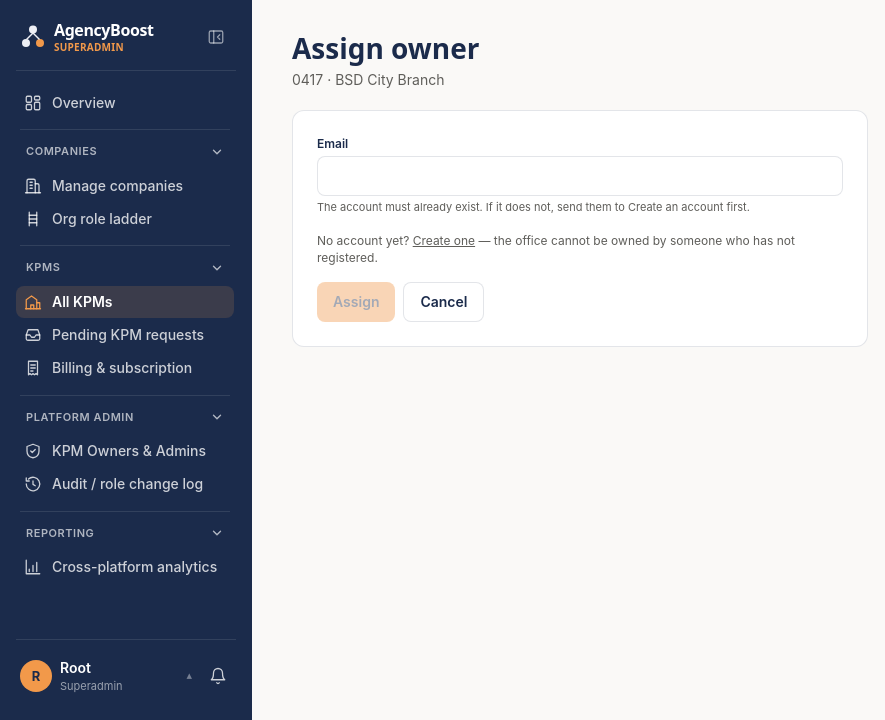
Test case: assign owner › P13.2-T4 AC-5: says an office at its leader limit cannot take a new Owner, and where to raise it
The image size is (885, 720).
Type "new@kpm0602.test" into the field labelled "Email".
click(580, 176); type("new@kpm0602.test")  # box [317,156,843,196]
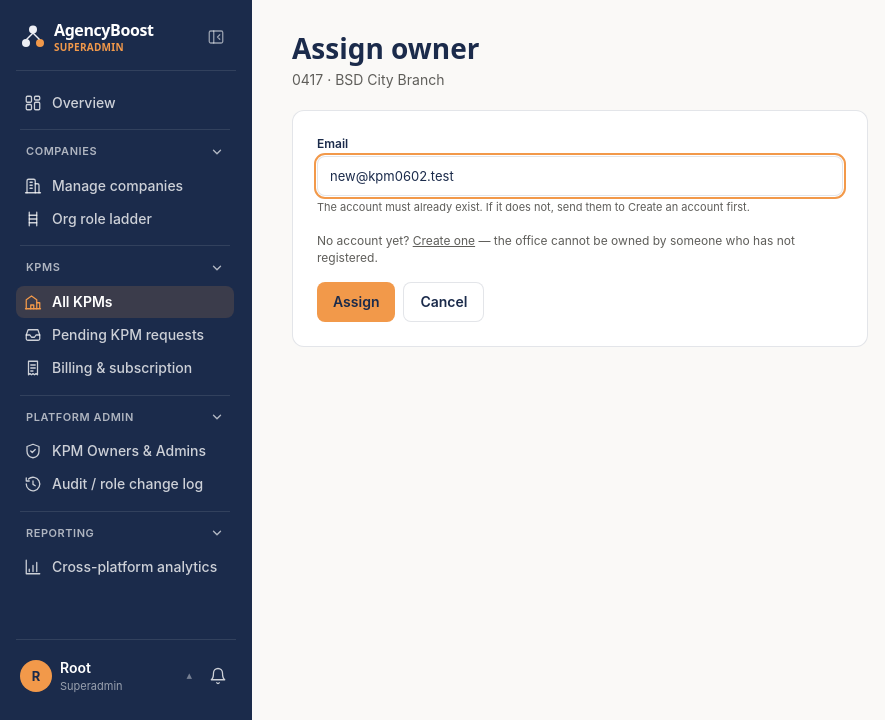
Click the button "Assign".
click(356, 302)  # box [317,282,396,322]
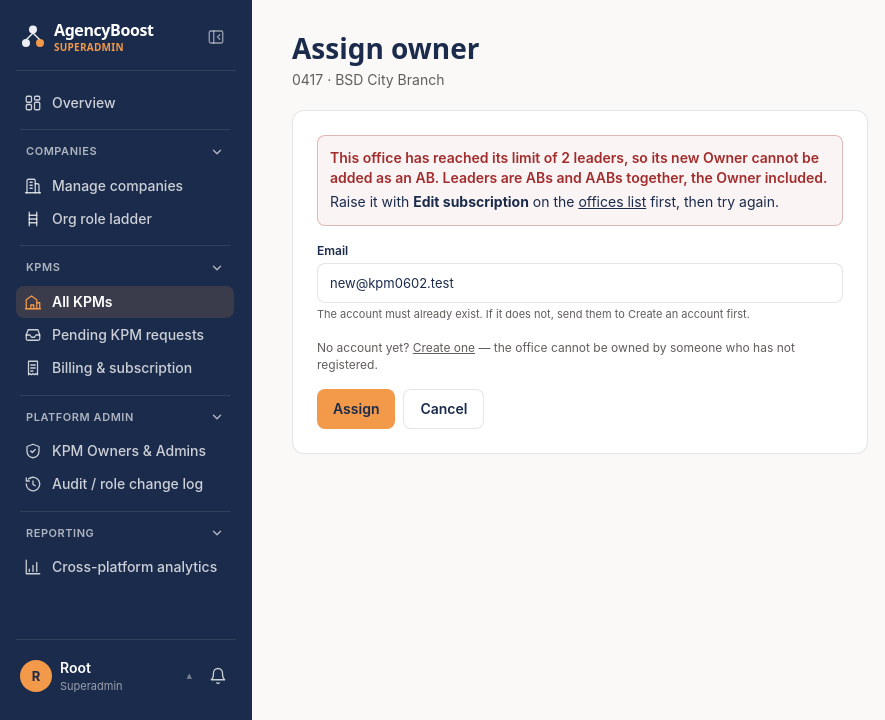
Expected: the message does not show "LEADER_LIMIT_REACHED", [317,135,843,226]
Now the message shows "This office has reached its limit of 2 leaders, so its new Owner cannot be added as an AB.", box [330,149,828,186]
Now the message shows "Raise it with Edit subscription on the offices list first, then try again.", box [317,135,843,226]
